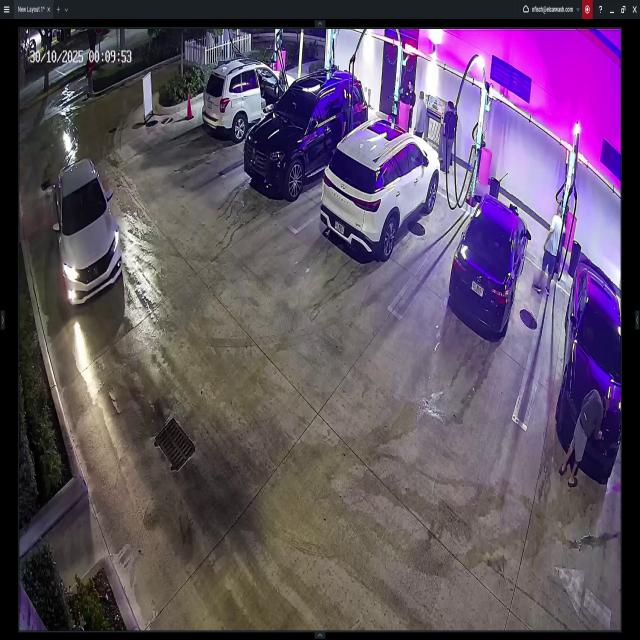Car: (320, 121, 441, 263), (247, 66, 365, 196), (557, 256, 620, 486), (446, 196, 529, 342), (54, 160, 124, 307), (202, 56, 296, 140)
